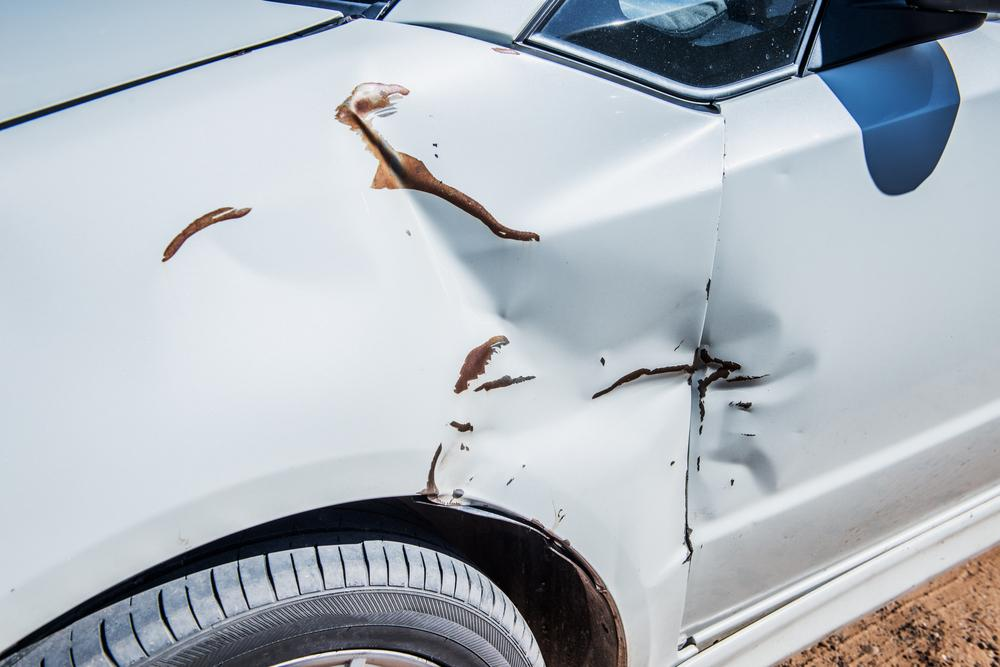dent: (182, 176, 702, 523), (693, 297, 821, 519)
